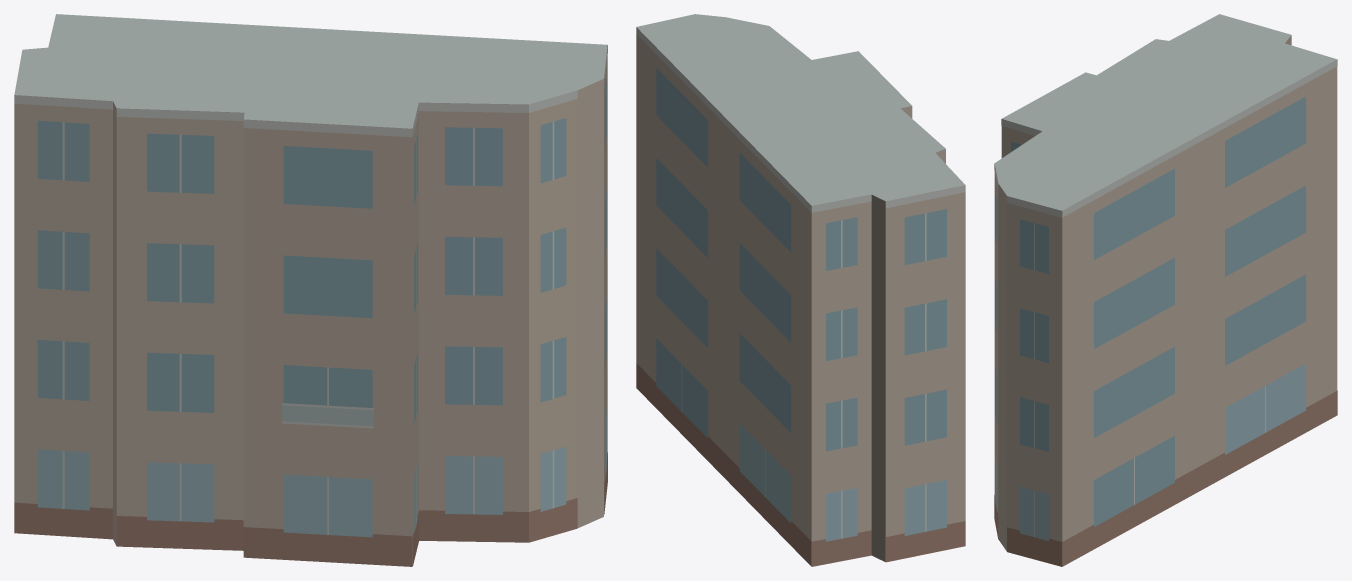
Rendered from survey-upis-32625353.glb.
3 renders of one model, left to right at view 1: azimuth 30°, elevation 25°; view 2: azimuth 150°, elevation 25°; view 3: azimuth 270°, elevation 25°, orthographic. The views are drawn at different scales.
Visible parts, largest first — view 1: survey-upis-32625353.tmp; view 2: survey-upis-32625353.tmp; view 3: survey-upis-32625353.tmp.
Part boxes in pixels (left/top/right/bottom): survey-upis-32625353.tmp: left=14, top=14, right=607, bottom=566; survey-upis-32625353.tmp: left=636, top=14, right=965, bottom=566; survey-upis-32625353.tmp: left=994, top=14, right=1337, bottom=566.
Bounding box in the file's own units: 14.95 × 12.6 × 11.
